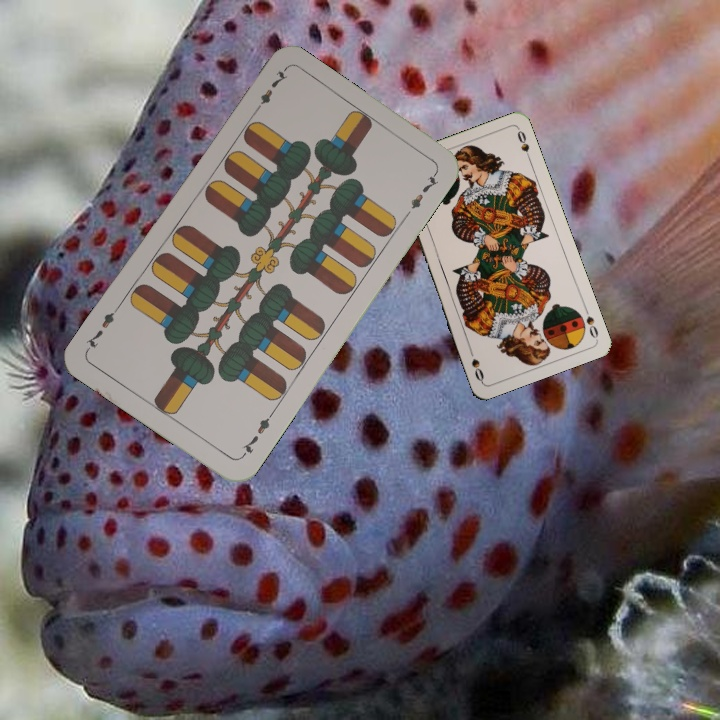E7: (250, 66, 291, 117), (237, 408, 276, 460)
SO: (580, 302, 601, 341)
